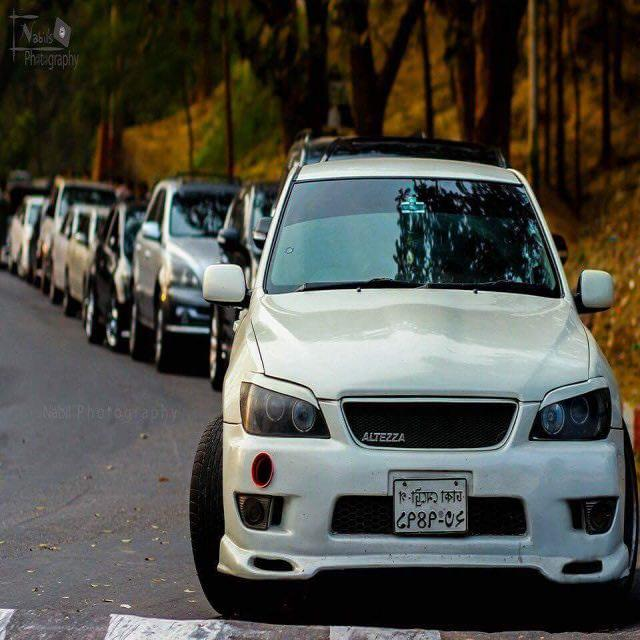numberplate: (393, 475, 468, 535)
